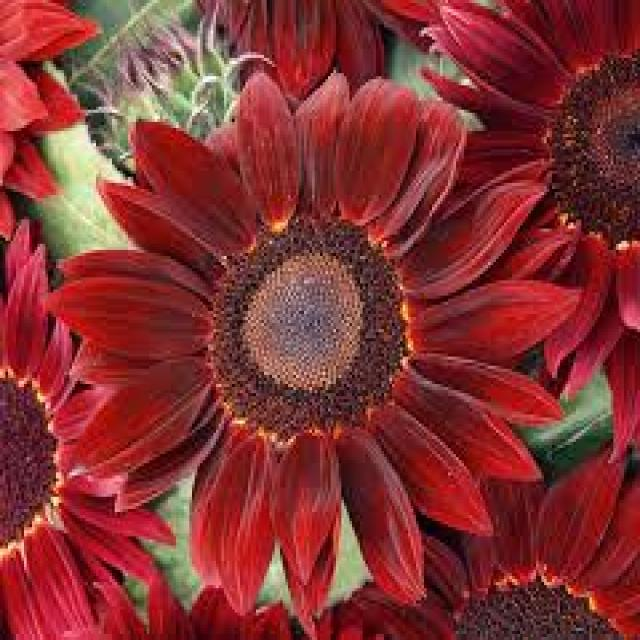sunflower: (38, 66, 595, 616), (414, 1, 640, 466), (0, 215, 187, 640), (297, 442, 640, 640), (180, 0, 433, 116), (0, 2, 114, 248)
